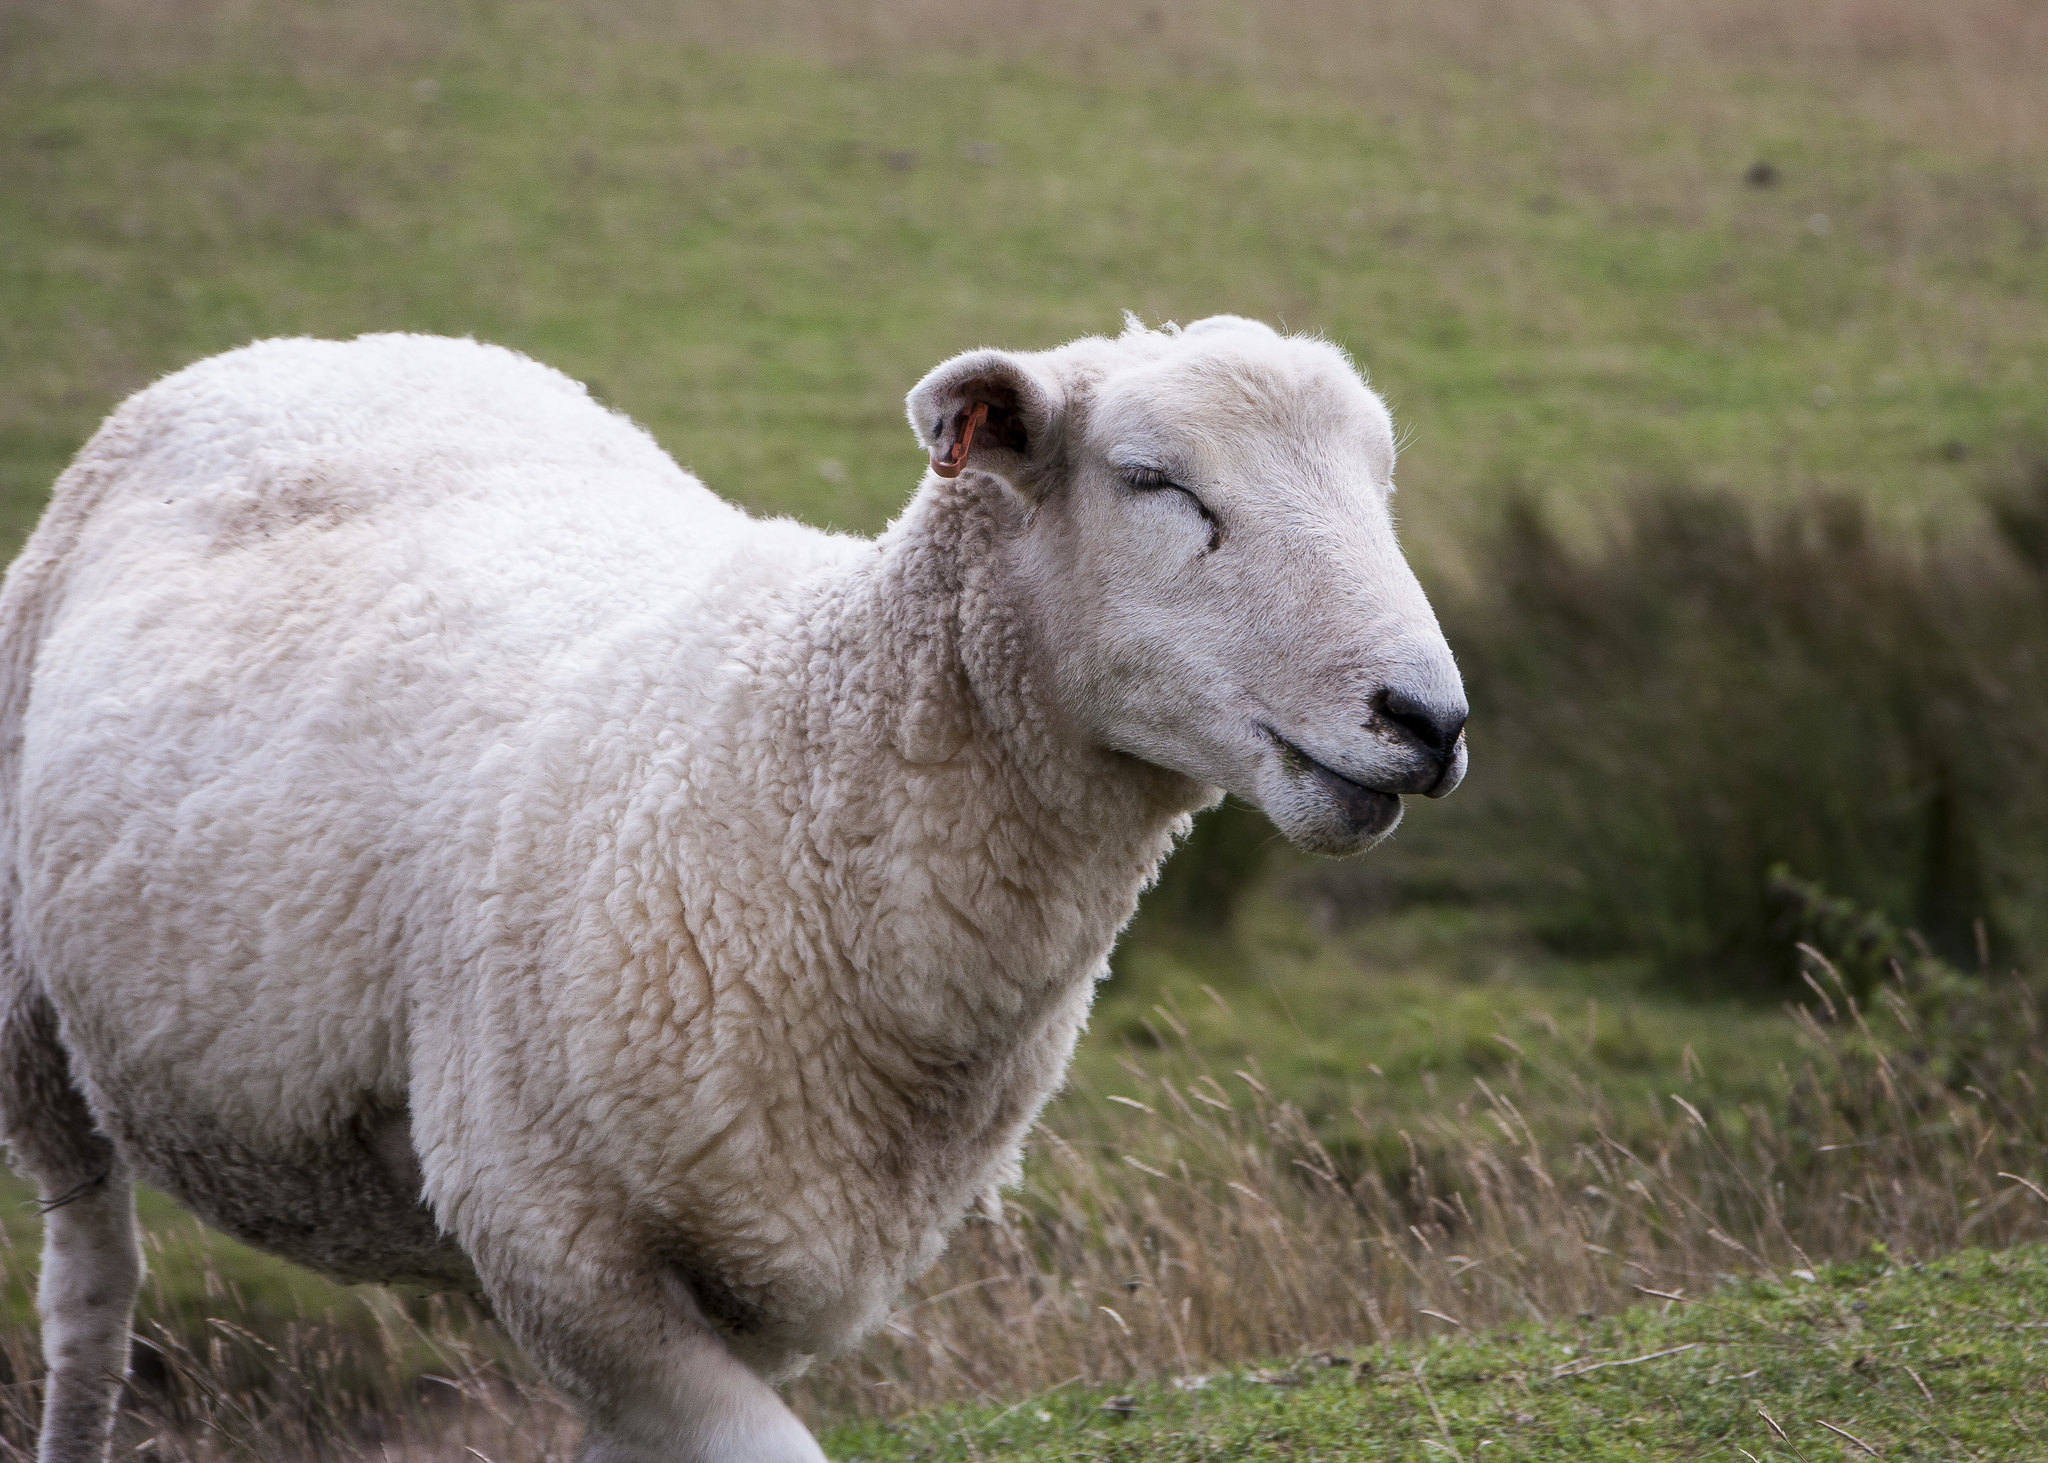sheep: (2, 290, 1475, 1442)
